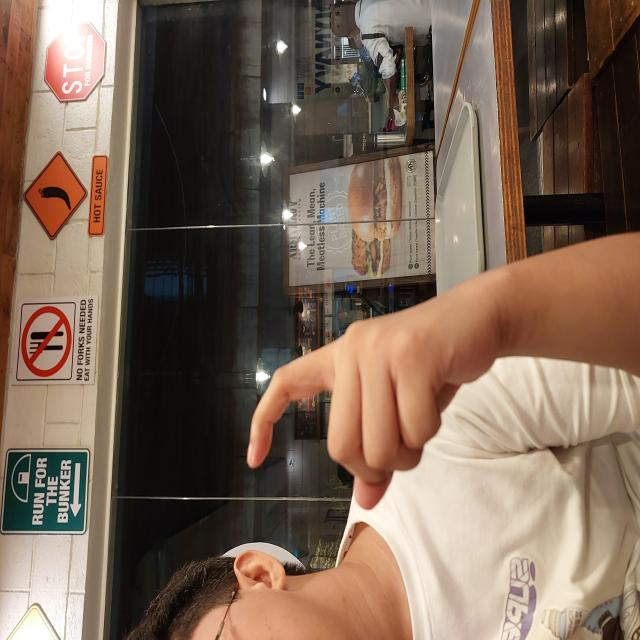X: (128, 245, 356, 501)
